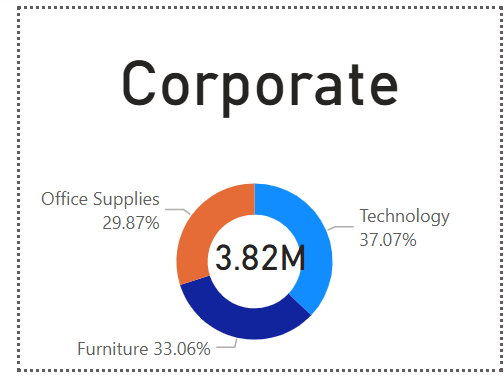

The page's visual inventory and layout, read from the dashboard file:
{"tool":"powerbi","page":{"name":"Tooltip","canvas":[320,240],"ordinal":2},"visuals":[{"type":"donutChart","fields":{"Category":["Orders.Category"],"Y":["Sum(Orders.Sales)"]},"box":[0,96,312,144],"z":0},{"type":"card","fields":{"Values":["Orders.Header_selection_column"]},"box":[0,0,320,88],"z":1000},{"type":"card","fields":{"Values":["Sum(Orders.Sales)"]},"box":[112,128,96,72],"z":2000}]}

Visuals, with their boxes in screenshot pixels (x1, y1, x2, y2), scaled from the page's 320x240 canvas onto the 504x376 screenshot:
donutChart - Orders.Category x Sum(Orders.Sales): 0/150/491/375
card - Orders.Header_selection_column: 0/0/503/138
card - Sum(Orders.Sales): 176/201/328/313
